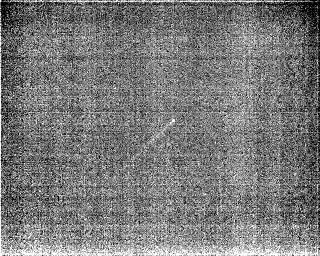AIRPLANE: (130, 117, 176, 159)
